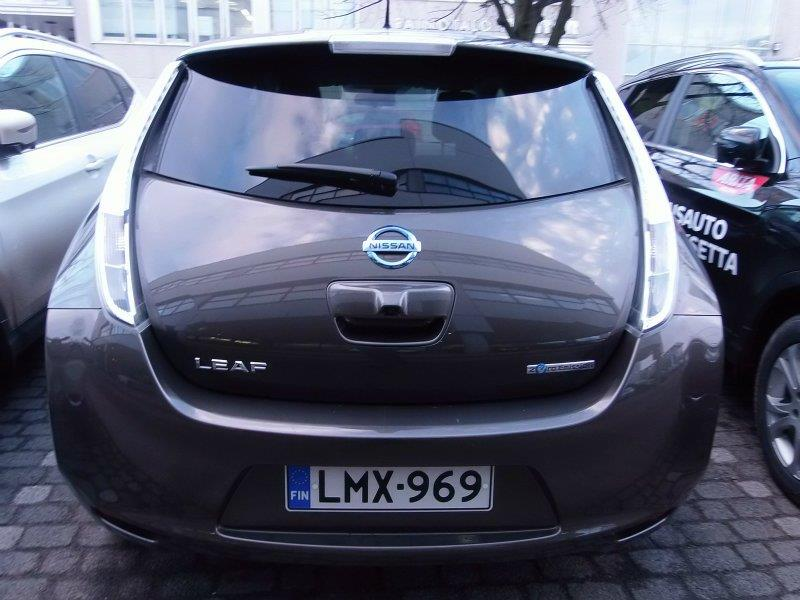license: (280, 465, 491, 519)
